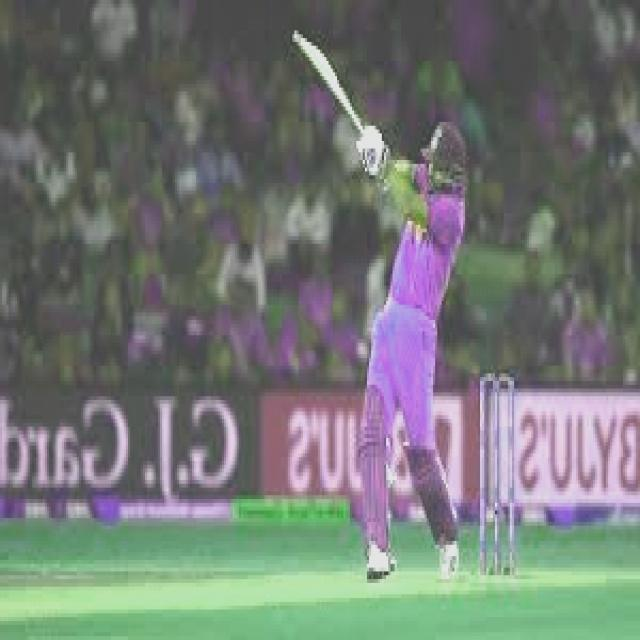toe: (283, 29, 310, 50)
